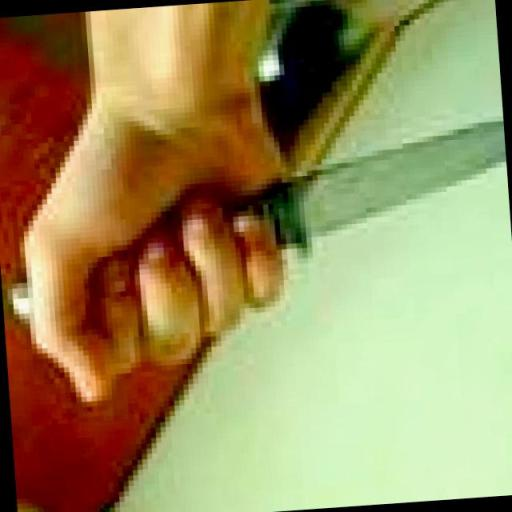knife: (0, 80, 512, 334)
